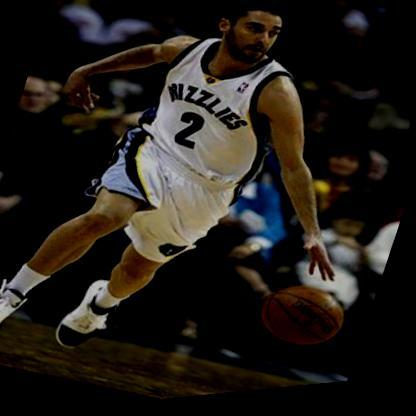basketball: (250, 277, 355, 367)
